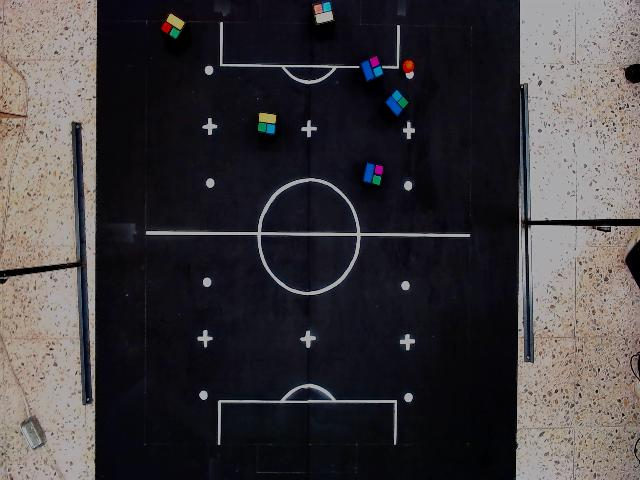robot: (159, 12, 186, 41), (359, 55, 386, 83), (384, 88, 410, 117), (311, 1, 337, 26), (362, 162, 385, 187), (256, 111, 278, 136)
